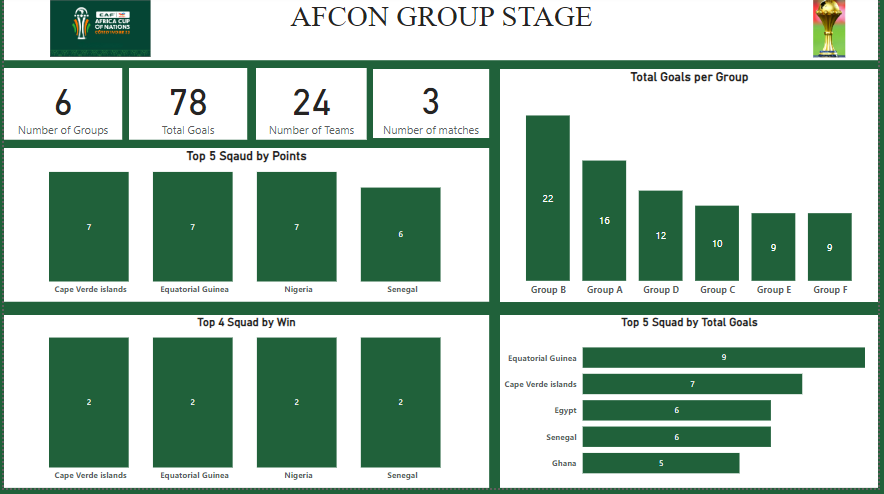

This screenshot's page, from the dashboard's own definition file:
{"tool":"powerbi","page":{"name":"Page 4","canvas":[1280,720],"ordinal":3},"visuals":[{"type":"textbox","box":[0,0,1280.5,93.7],"z":0},{"type":"image","box":[39.5,0,202,93.7],"z":1000},{"type":"image","box":[1134.1,0,146.3,95.1],"z":2000},{"type":"card","fields":{"Values":["Count(Group Stage.Group)"]},"box":[0,105.4,172.7,105.4],"z":3000},{"type":"columnChart","title":"Top 4 Squad by Win ","fields":{"Category":["Group Stage.Squad"],"Y":["Sum(Group Stage.Win)"]},"box":[0,466.8,709.8,253.2],"z":4000},{"type":"clusteredBarChart","title":"Top 5 Squad by Total Goals","fields":{"Category":["Group Stage.Squad"],"Y":["Sum(Group Stage.Goal For)"]},"box":[725.9,466.8,554.6,253.2],"z":5000},{"type":"card","fields":{"Values":["Sum(Group Stage.Goal For)"]},"box":[182.9,105.4,172.7,105.4],"z":6000},{"type":"columnChart","title":"Top 5 Sqaud by Points","fields":{"Category":["Group Stage.Squad"],"Y":["Sum(Group Stage.Points)"]},"box":[0,222.4,709.8,225.4],"z":7000},{"type":"columnChart","title":"Total Goals per Group","fields":{"Category":["Group Stage.Group"],"Y":["Sum(Group Stage.Goal For)"]},"box":[725.9,106.8,554.6,341],"z":8000},{"type":"card","fields":{"Values":["CountNonNull(Group Stage.Squad)"]},"box":[368.8,105.4,162.4,105.4],"z":9000},{"type":"card","fields":{"Values":["Max(Group Stage.MP)"]},"box":[540,106.8,169.8,101],"z":10000}]}

Visuals, with their boxes in screenshot pixels (x1, y1, x2, y2), scaled from the page's 1280x720 canvas onto the 884x494 screenshot:
textbox: left=0, top=0, right=883, bottom=64
image: left=27, top=0, right=167, bottom=64
image: left=783, top=0, right=883, bottom=65
card - Count(Group Stage.Group): left=0, top=72, right=119, bottom=145
"Top 4 Squad by Win " columnChart: left=0, top=320, right=490, bottom=493
"Top 5 Squad by Total Goals" clusteredBarChart: left=501, top=320, right=883, bottom=493
card - Sum(Group Stage.Goal For): left=126, top=72, right=246, bottom=145
"Top 5 Sqaud by Points" columnChart: left=0, top=153, right=490, bottom=307
"Total Goals per Group" columnChart: left=501, top=73, right=883, bottom=307
card - CountNonNull(Group Stage.Squad): left=255, top=72, right=367, bottom=145
card - Max(Group Stage.MP): left=373, top=73, right=490, bottom=143
